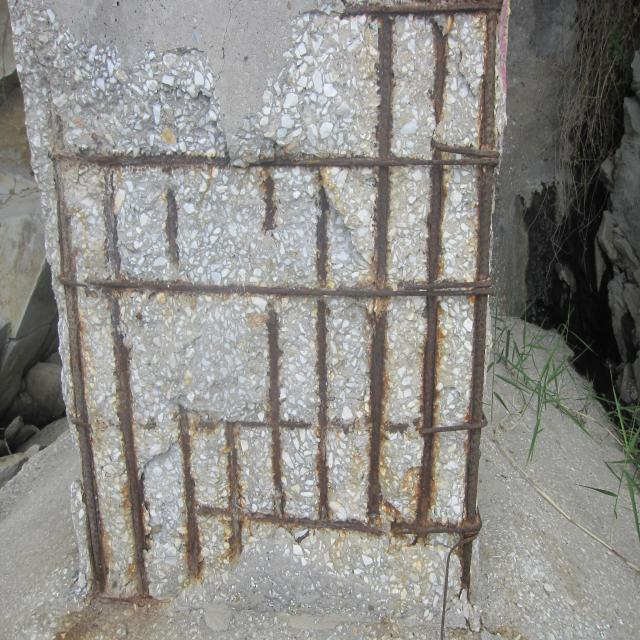corrosion: (7, 1, 512, 634)
